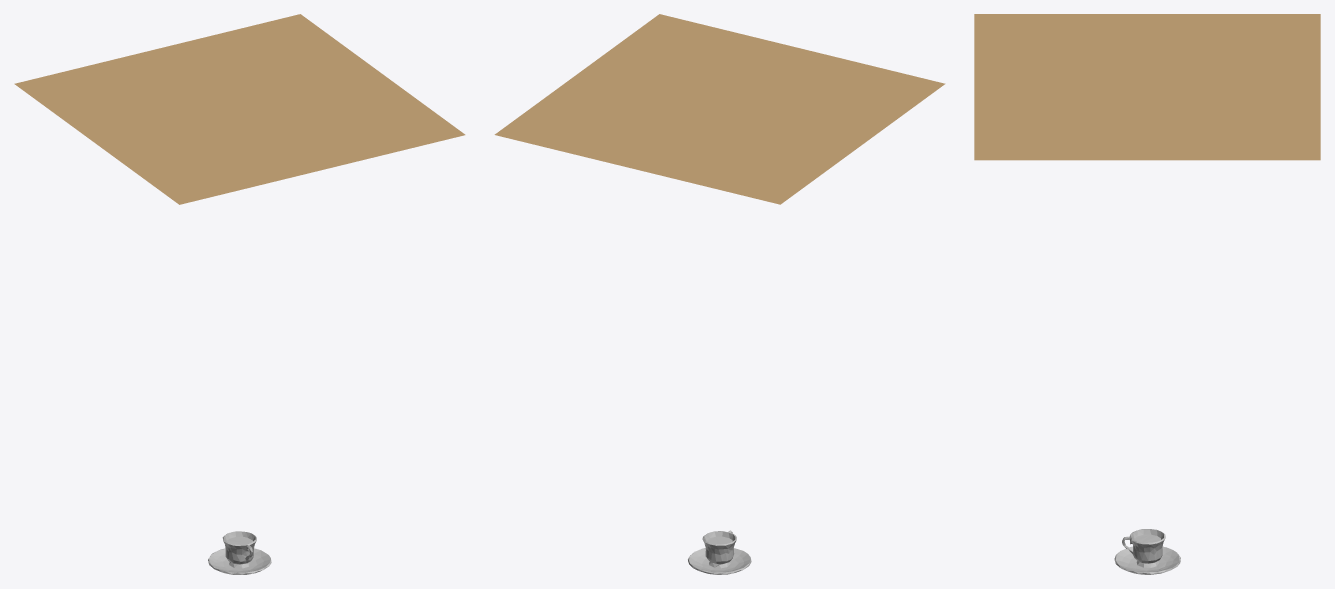
Rendered from init.glb.
3 views of the same model, side by side, from view 1: azimuth 30°, elevation 25°; view 2: azimuth 150°, elevation 25°; view 3: azimuth 270°, elevation 25° (orthographic). The views are drawn at different scales.
Visible parts, largest first — view 1: world, object.obj; view 2: world, object.obj; view 3: world, object.obj.
Boxes of the visible parts, x1,y1,x2,y2 form: world: [14, 14, 465, 204]; object.obj: [208, 531, 271, 574]; world: [494, 14, 945, 204]; object.obj: [688, 530, 751, 574]; world: [974, 14, 1320, 160]; object.obj: [1114, 529, 1180, 574].
Size of the model in its own units: 0.6529 by 0.9991 by 0.6529.
